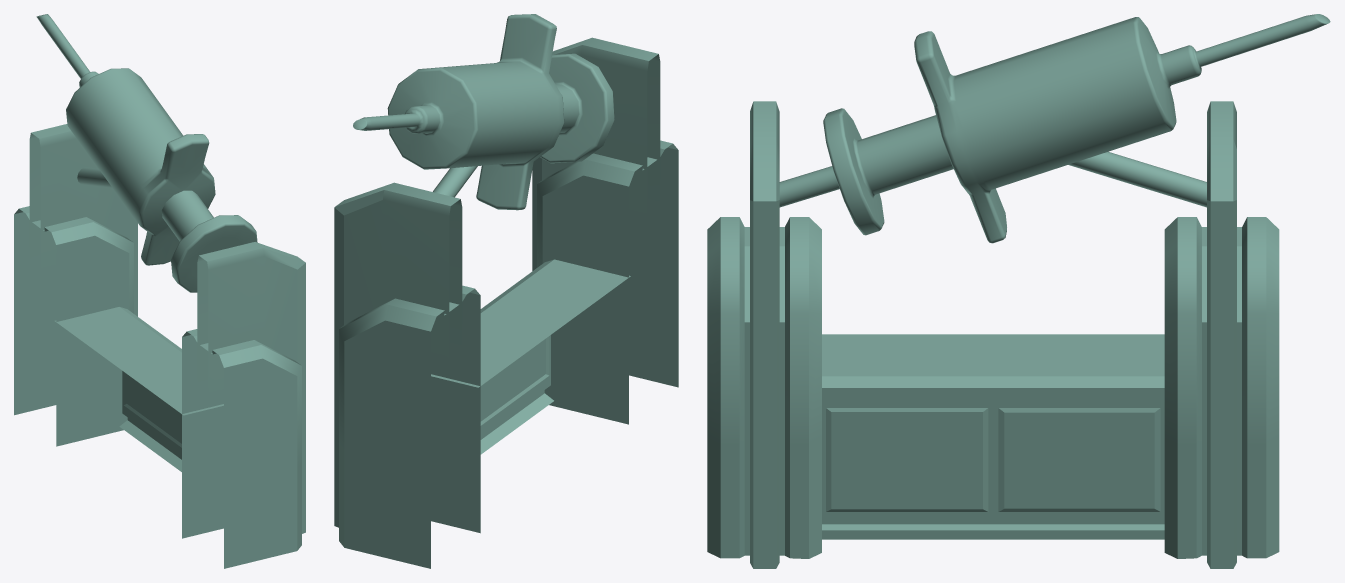
The model's file is ATLAS_LV_STORAGE.fbx.
The picture shows the model from 3 angles, left to right: view 1: azimuth 30°, elevation 25°; view 2: azimuth 150°, elevation 25°; view 3: azimuth 270°, elevation 25°; orthographic projection. The views are drawn at different scales.
Parts seen in each view (by area): view 1: LV_STORAGE; view 2: LV_STORAGE; view 3: LV_STORAGE.
Part boxes in pixels (left/top/right/bottom): LV_STORAGE: left=14, top=14, right=305, bottom=568; LV_STORAGE: left=334, top=14, right=678, bottom=568; LV_STORAGE: left=707, top=14, right=1330, bottom=568.
Bounding box in the file's own units: 67.96 × 250 × 273.
